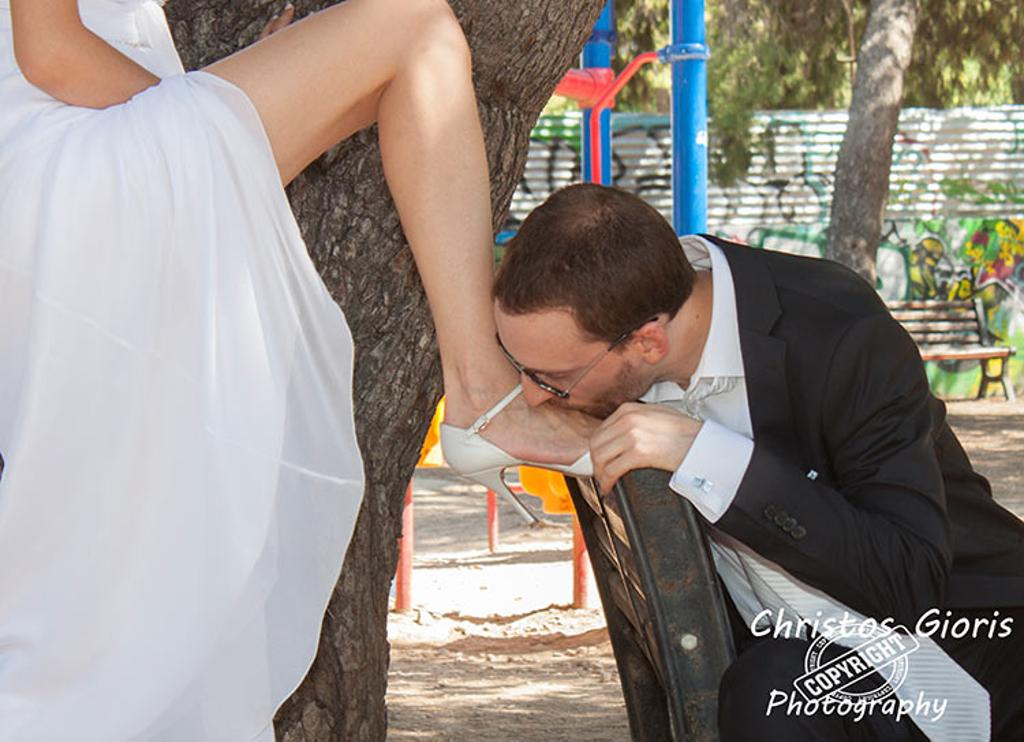face: (504, 310, 626, 424)
